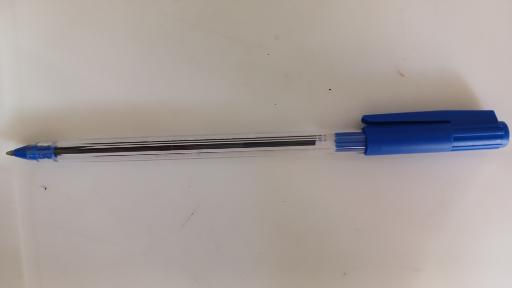pen: (4, 109, 509, 165)
